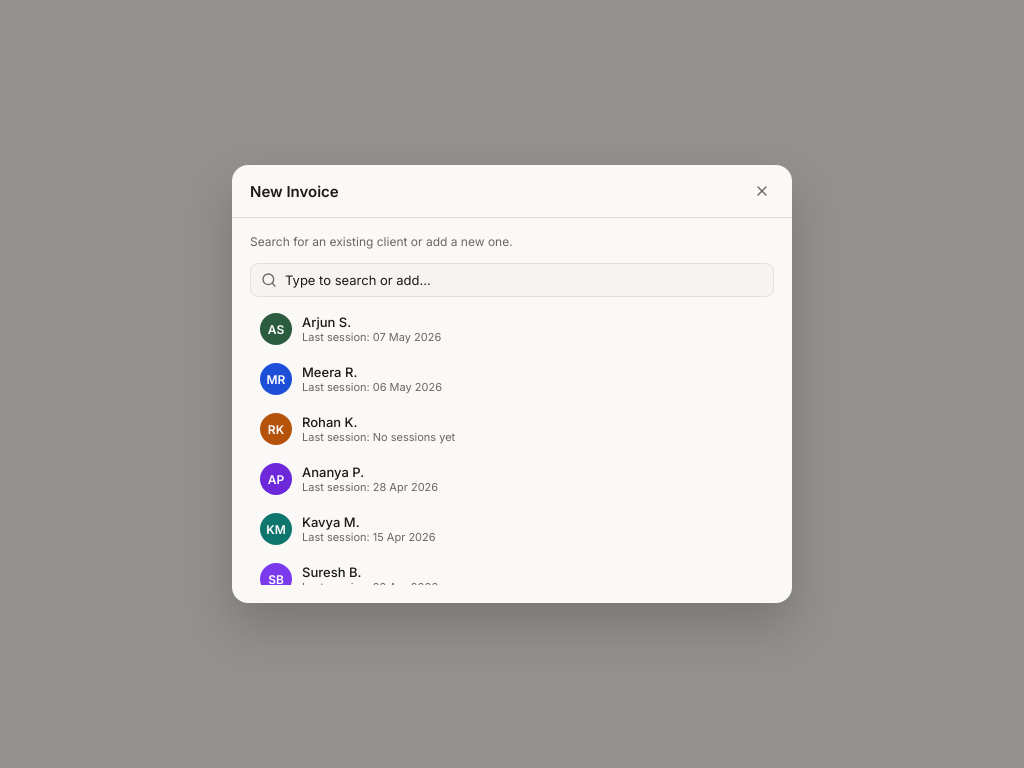
Test: <AddInvoiceModal> › back arrow returns to step 1
This screenshot has width=1024, height=768.
Click the text "Arjun S.": (327, 322) top-left (302, 314), bottom-right (351, 330)
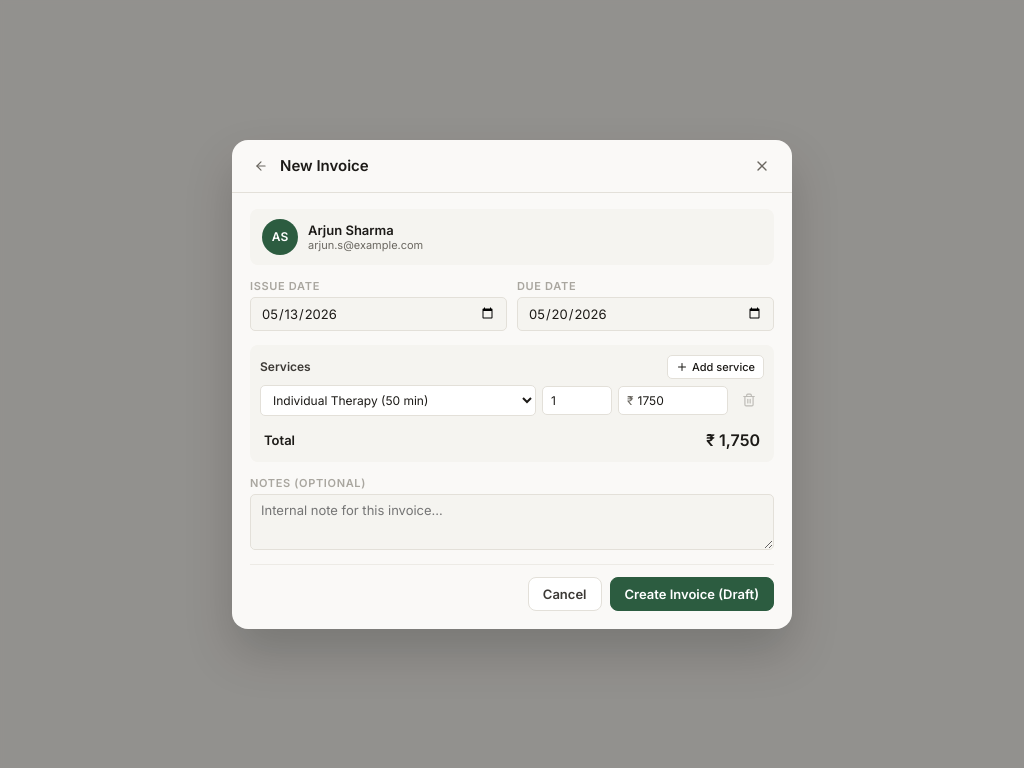
Click the button named "Back": (261, 166) top-left (250, 154), bottom-right (272, 176)
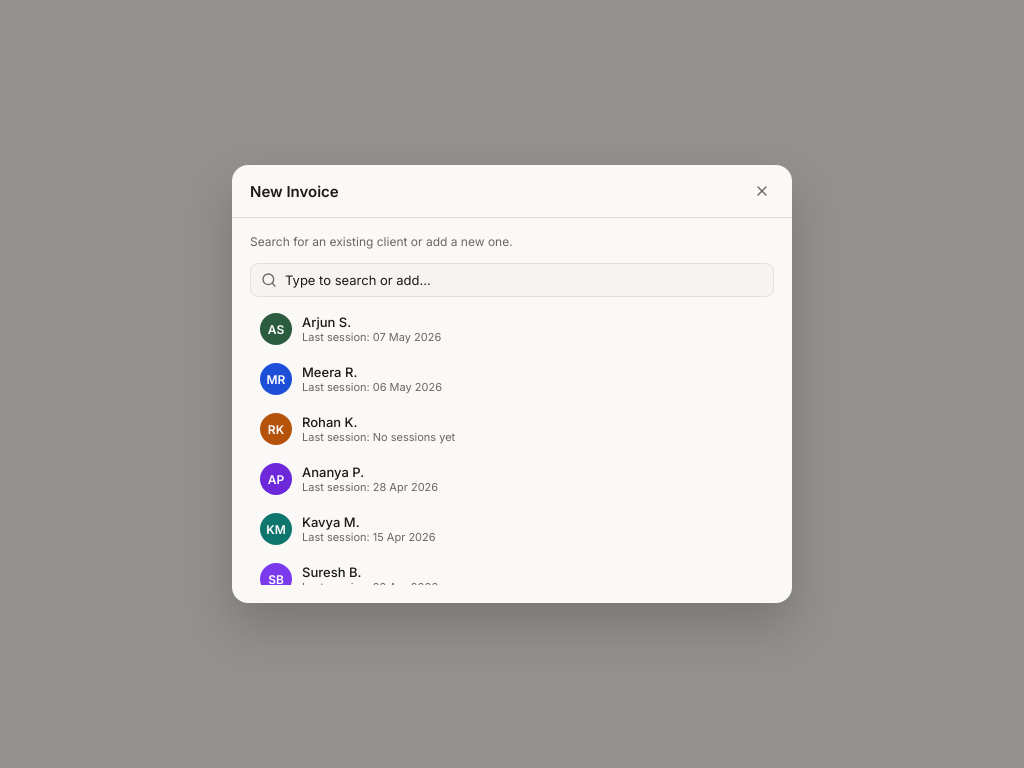
Check: the text "Search for an existing client or add a new one." is shown, box top-left (250, 234), bottom-right (513, 249)
